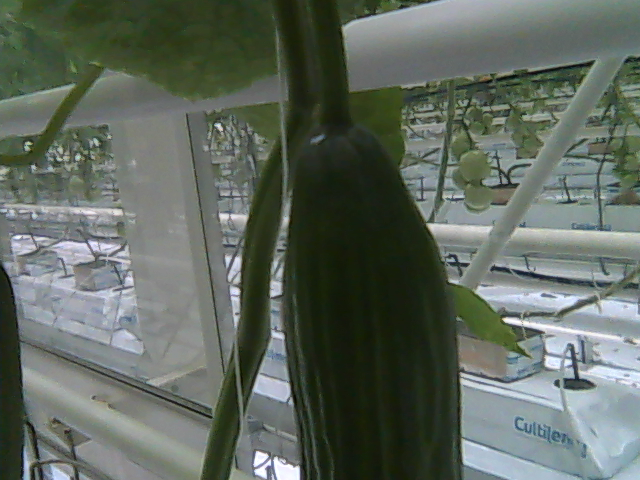concombre: (280, 107, 465, 480)
